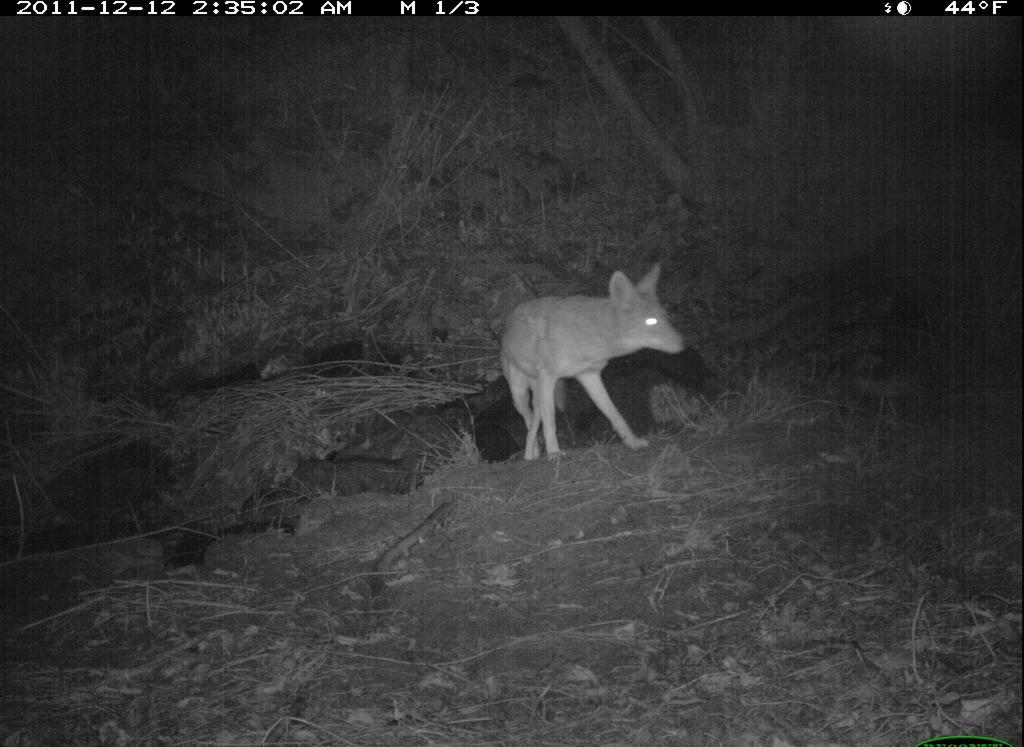coyote: (497, 260, 693, 474)
